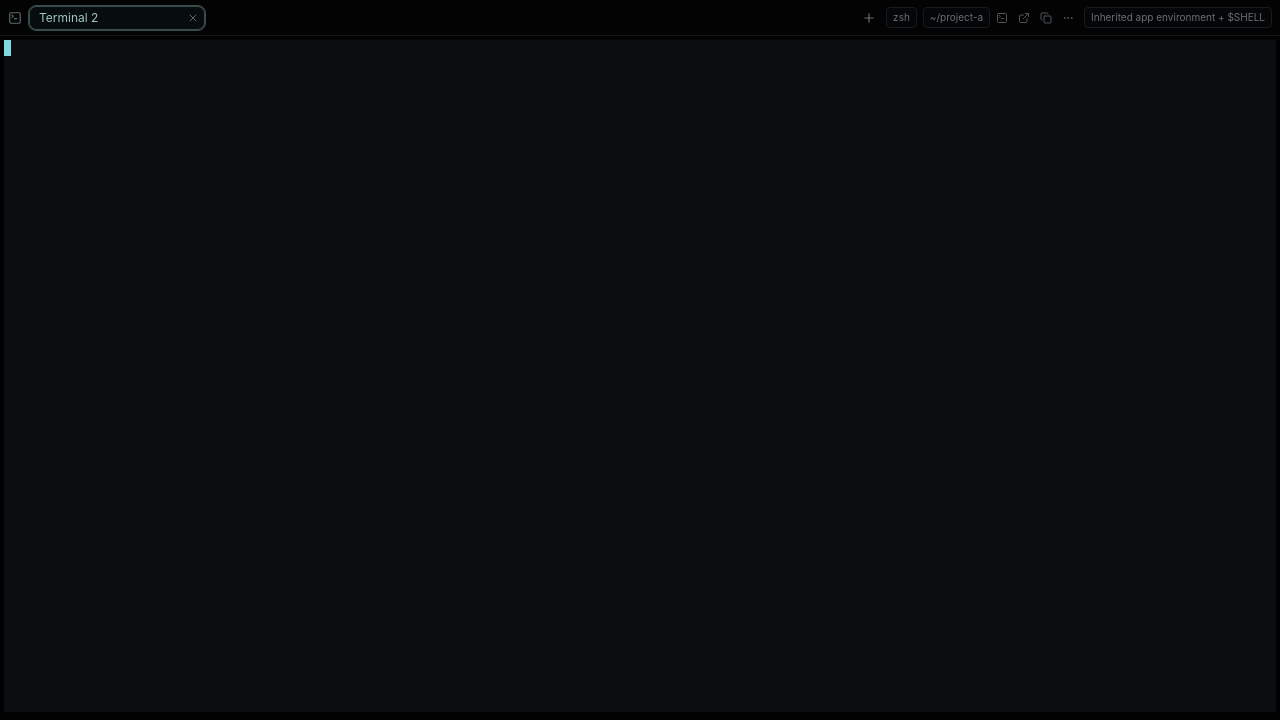
shows recovery guidance when revealing the terminal cwd fails
This screenshot has width=1280, height=720.
Click the button named "Reveal terminal cwd in Finder". click: (1024, 18)
box: [1014,8,1034,28]
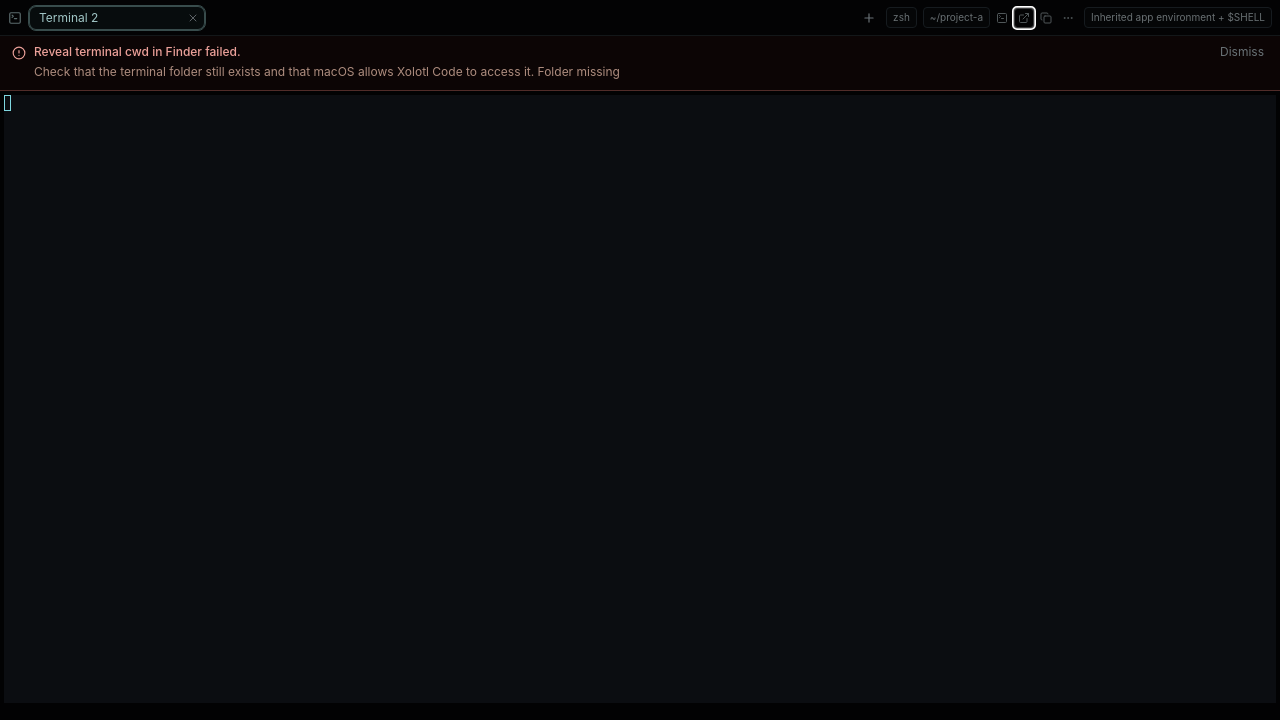
expect the text "Reveal terminal cwd in Finder failed." is shown: met, box [34,44,240,59]
expect the text "Folder missing" is shown: met, box [34,64,620,79]
